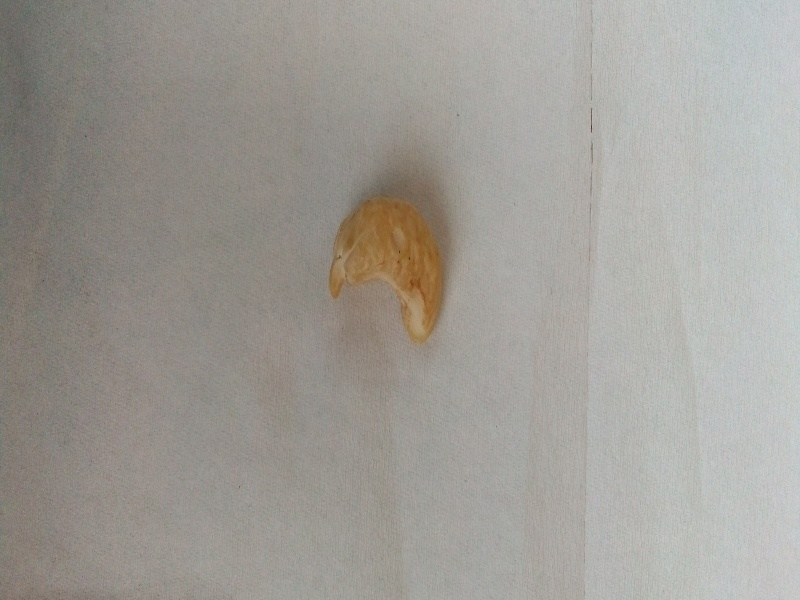cashew: (304, 164, 483, 360)
